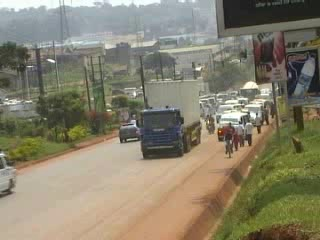Car: (116, 122, 142, 144)
Motorcycle: (203, 112, 216, 136)
